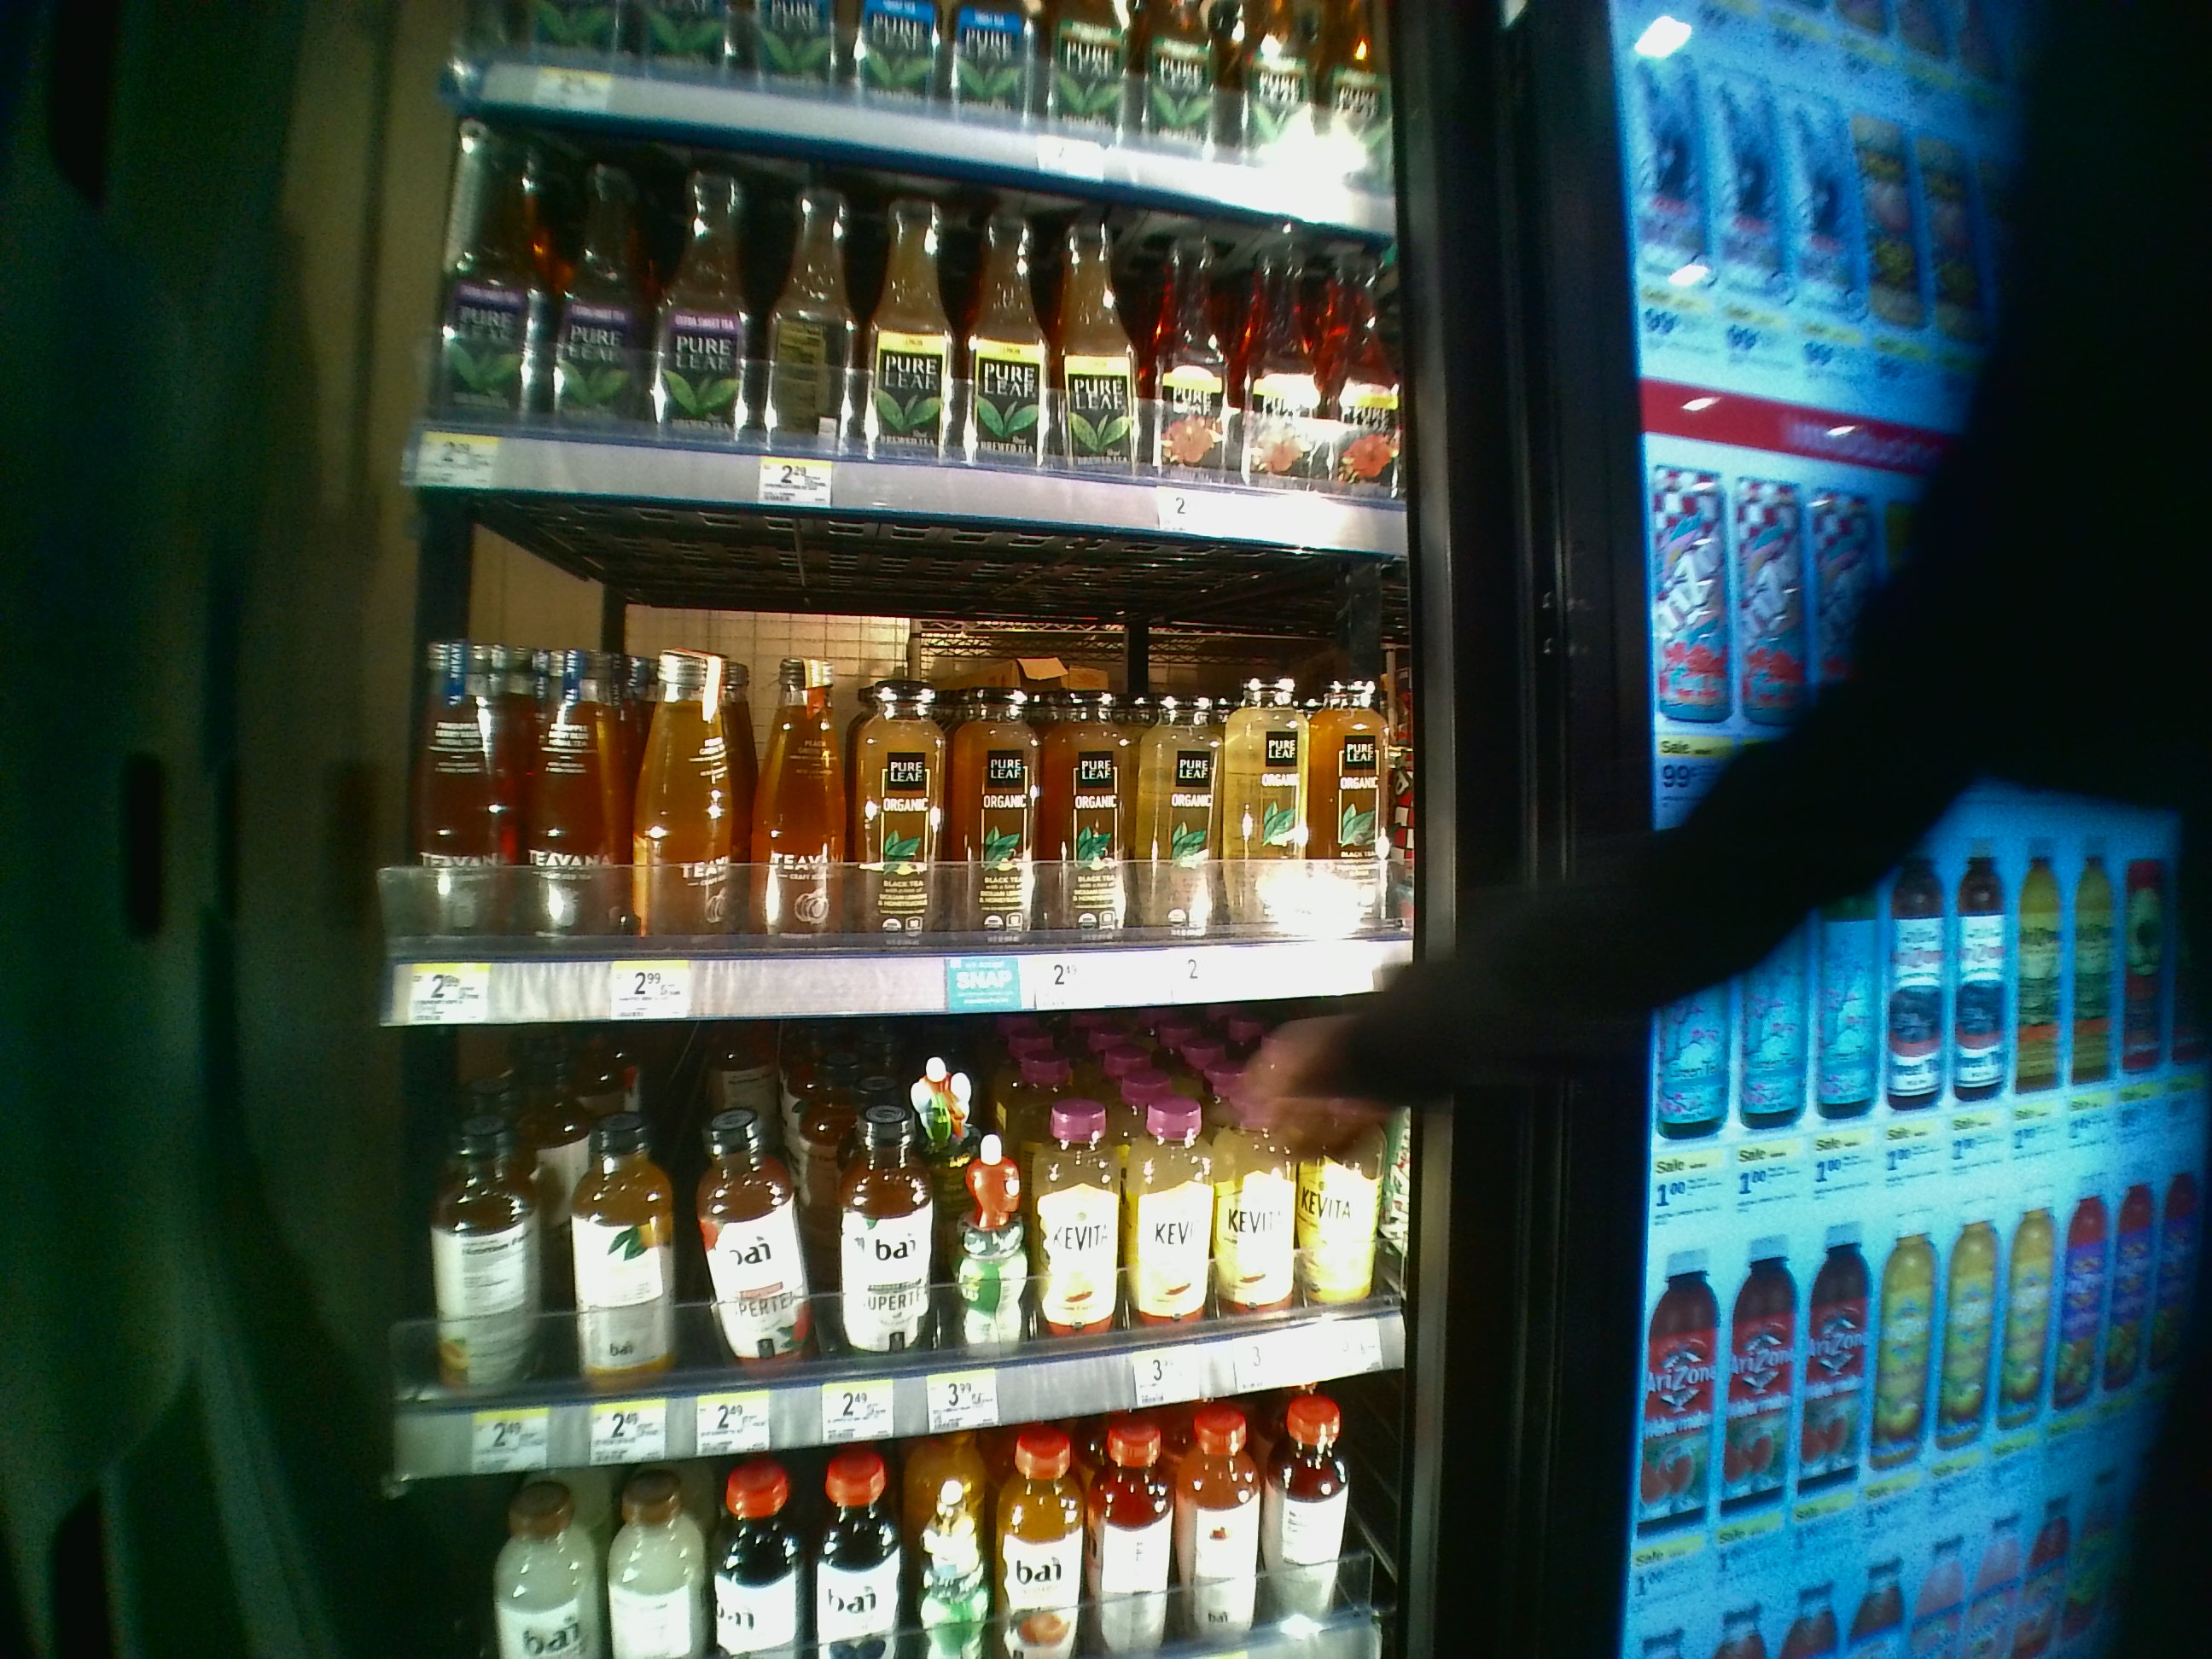shelf: (381, 481, 1418, 1019), (371, 1030, 1425, 1481)
